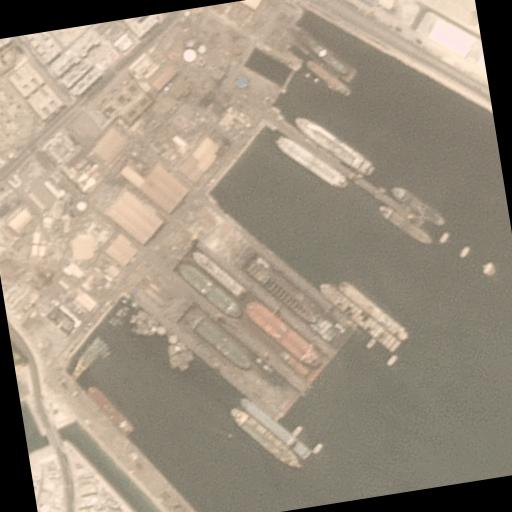ship: (319, 271, 400, 360), (244, 290, 322, 376), (241, 246, 318, 332), (296, 106, 378, 186), (226, 398, 301, 478), (334, 269, 408, 348), (273, 126, 351, 198), (240, 386, 310, 464), (186, 303, 254, 378), (176, 255, 244, 326), (191, 242, 245, 302), (376, 196, 432, 252), (306, 32, 356, 88), (392, 179, 444, 231), (86, 380, 132, 438), (305, 53, 355, 101)
